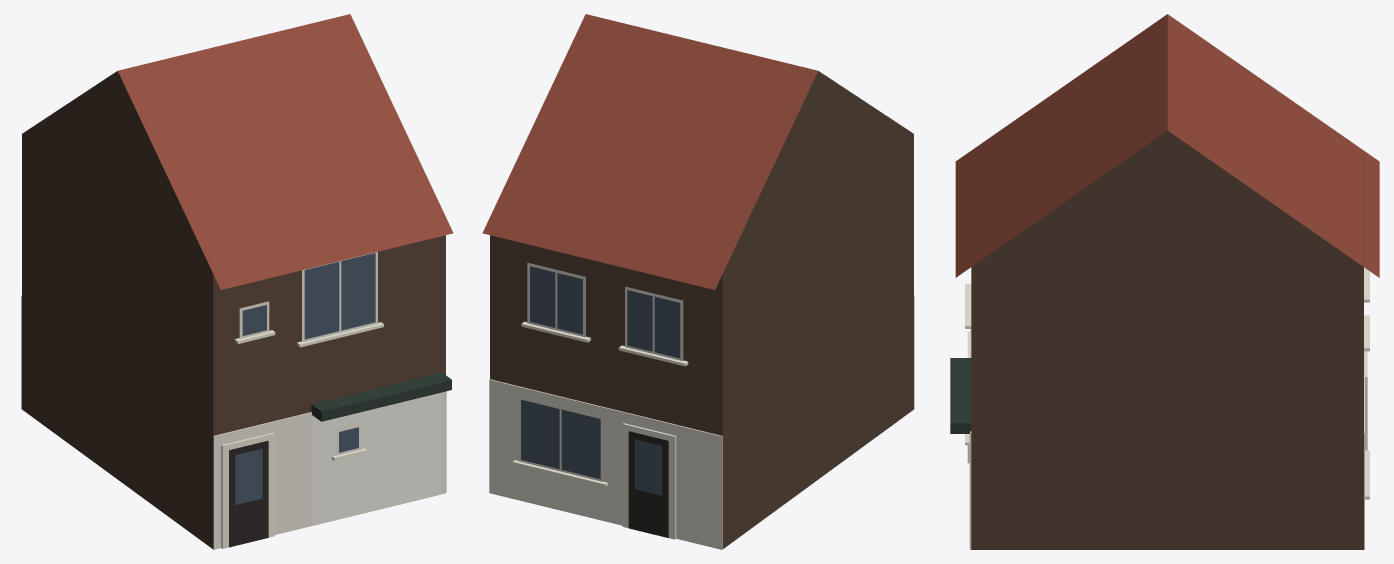
File: nw-rowhouse-white-sheds__tile__2__gable__long__solid.glb
3 views of the same model, side by side, from view 1: azimuth 30°, elevation 25°; view 2: azimuth 150°, elevation 25°; view 3: azimuth 270°, elevation 25° (orthographic). The views are drawn at different scales.
Visible parts, largest first — view 1: nw-rowhouse-white-sheds__tile__2__gable__long__solid; view 2: nw-rowhouse-white-sheds__tile__2__gable__long__solid; view 3: nw-rowhouse-white-sheds__tile__2__gable__long__solid.
Boxes of the visible parts, x1=… form: nw-rowhouse-white-sheds__tile__2__gable__long__solid: x1=21, y1=14, x2=453, y2=549; nw-rowhouse-white-sheds__tile__2__gable__long__solid: x1=482, y1=14, x2=914, y2=549; nw-rowhouse-white-sheds__tile__2__gable__long__solid: x1=950, y1=14, x2=1379, y2=549.
Bounding box in the file's own units: 5.26 × 8.82 × 8.18.
